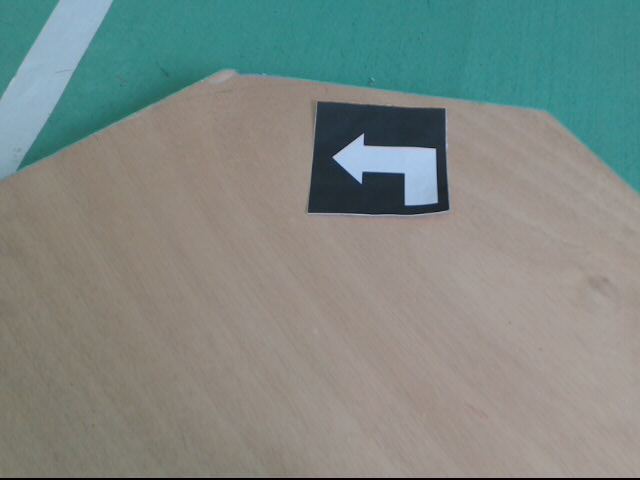left: (308, 100, 455, 216)
